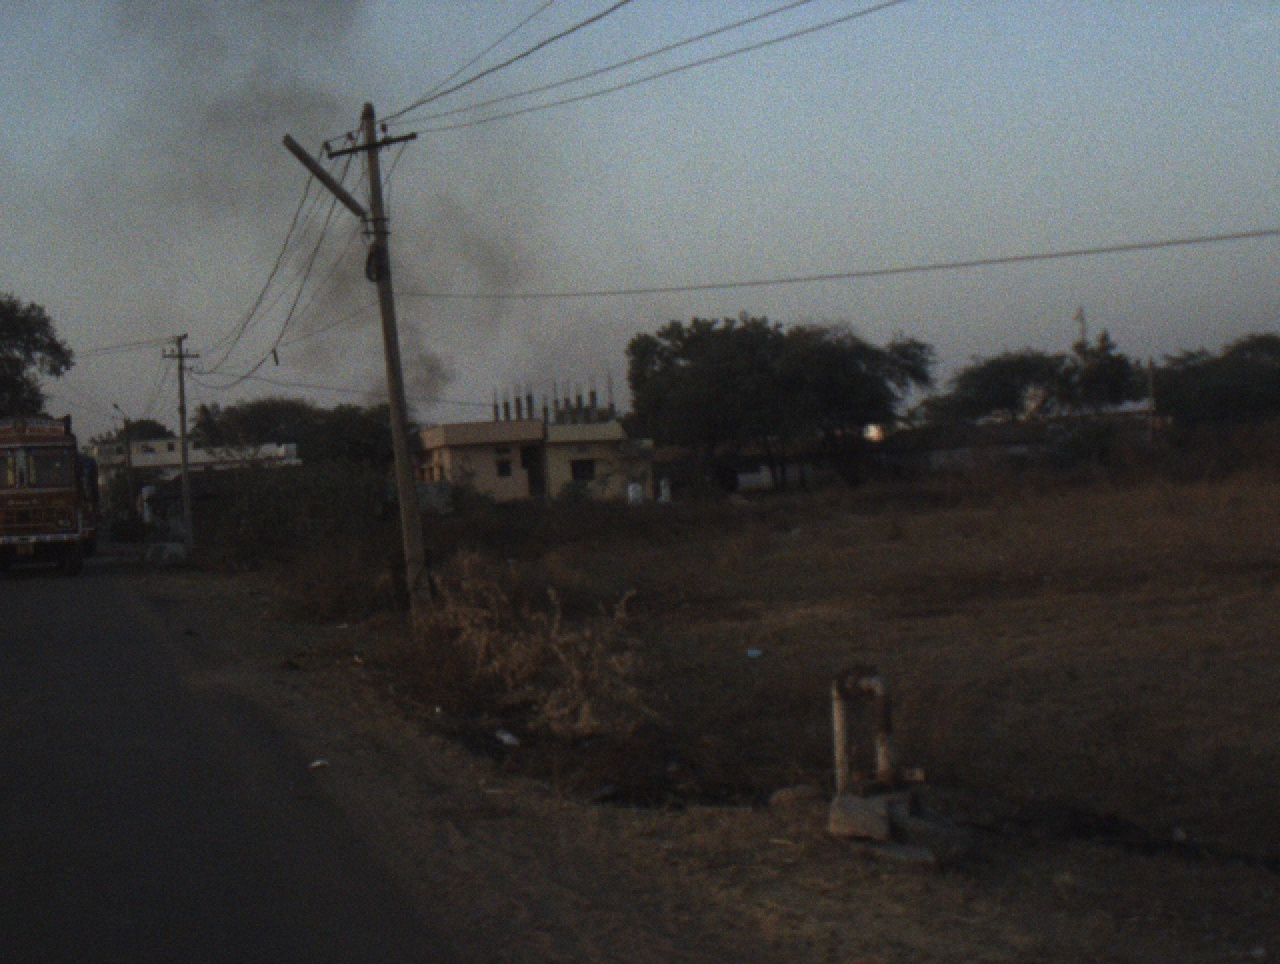truck: (4, 401, 97, 581), (79, 451, 107, 556)
